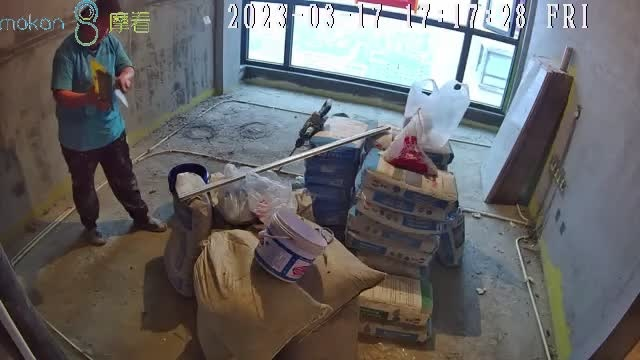people: (51, 1, 167, 245)
window: (242, 1, 524, 115)
